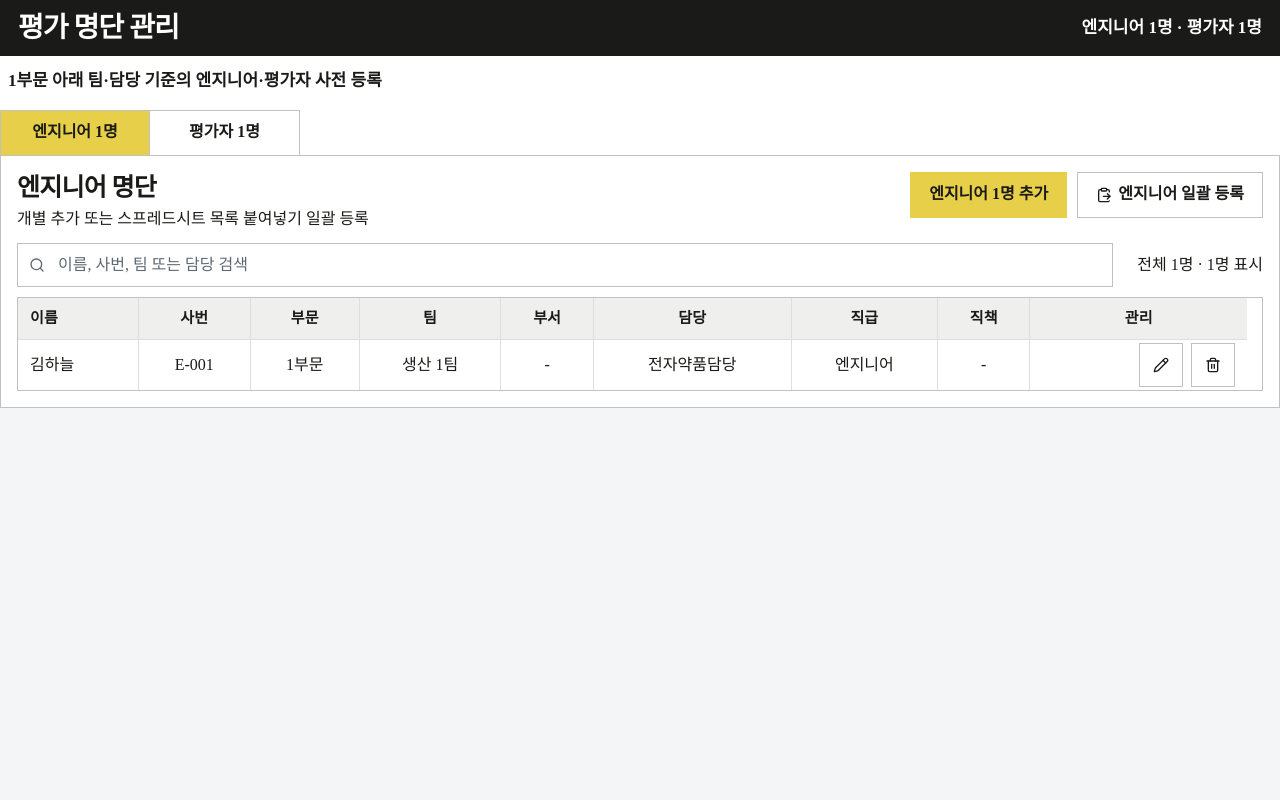
Test: RosterManagementPanel › keeps the dialog open and explains a repository registration failure
Click the button "엔지니어 1명 추가" at (989, 195), box [910,172,1067,218]
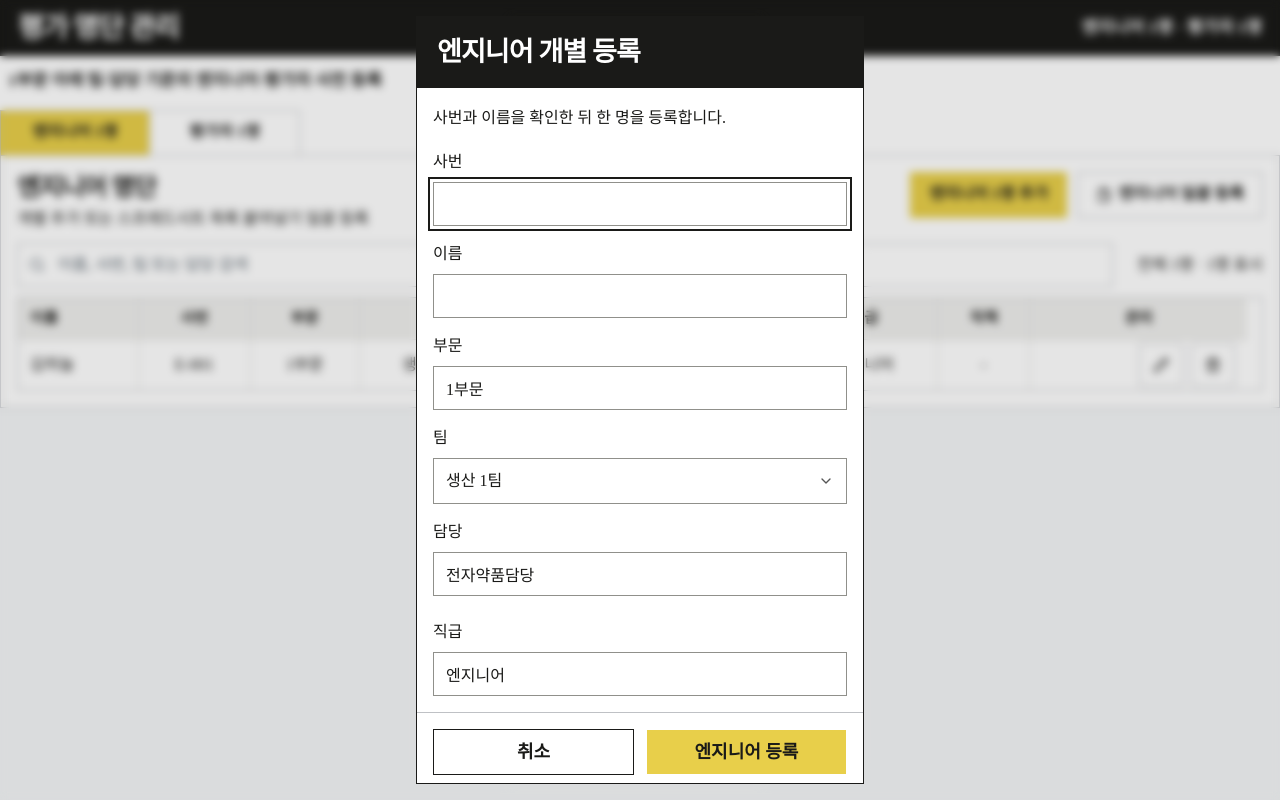
Type "E-009" into the field labelled "사번" at (640, 204), box [433,182,847,226]
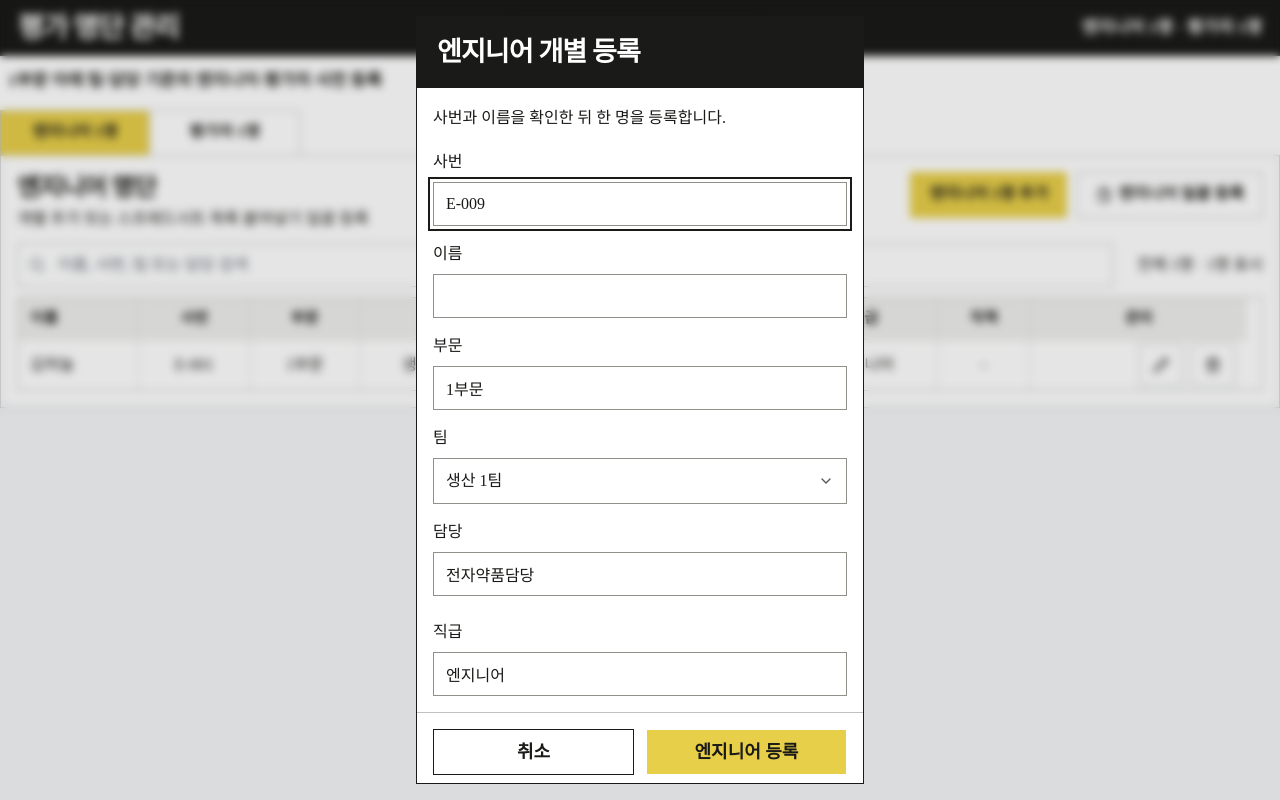
Type "등록실패" into the field labelled "이름" at (640, 296), box [433,274,847,318]
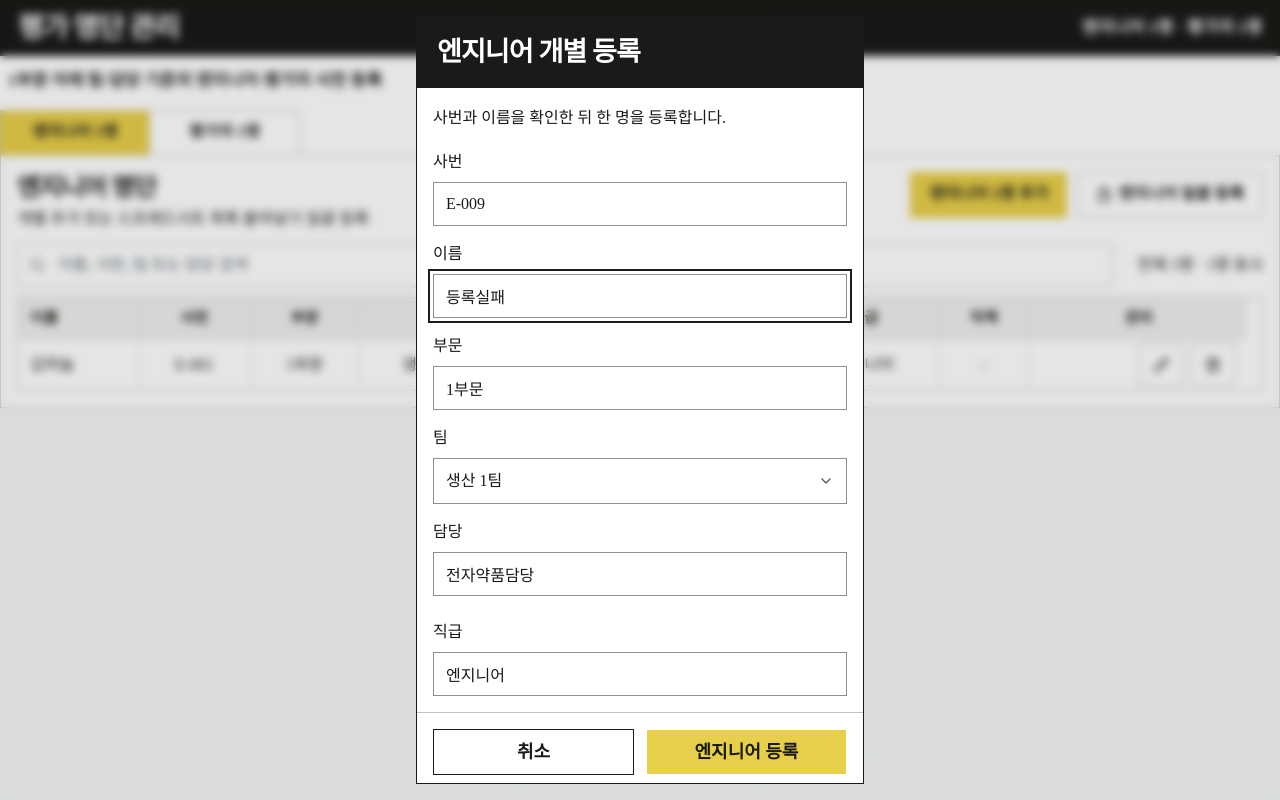
Click the button "엔지니어 등록" at (746, 752), box [646,729,847,775]
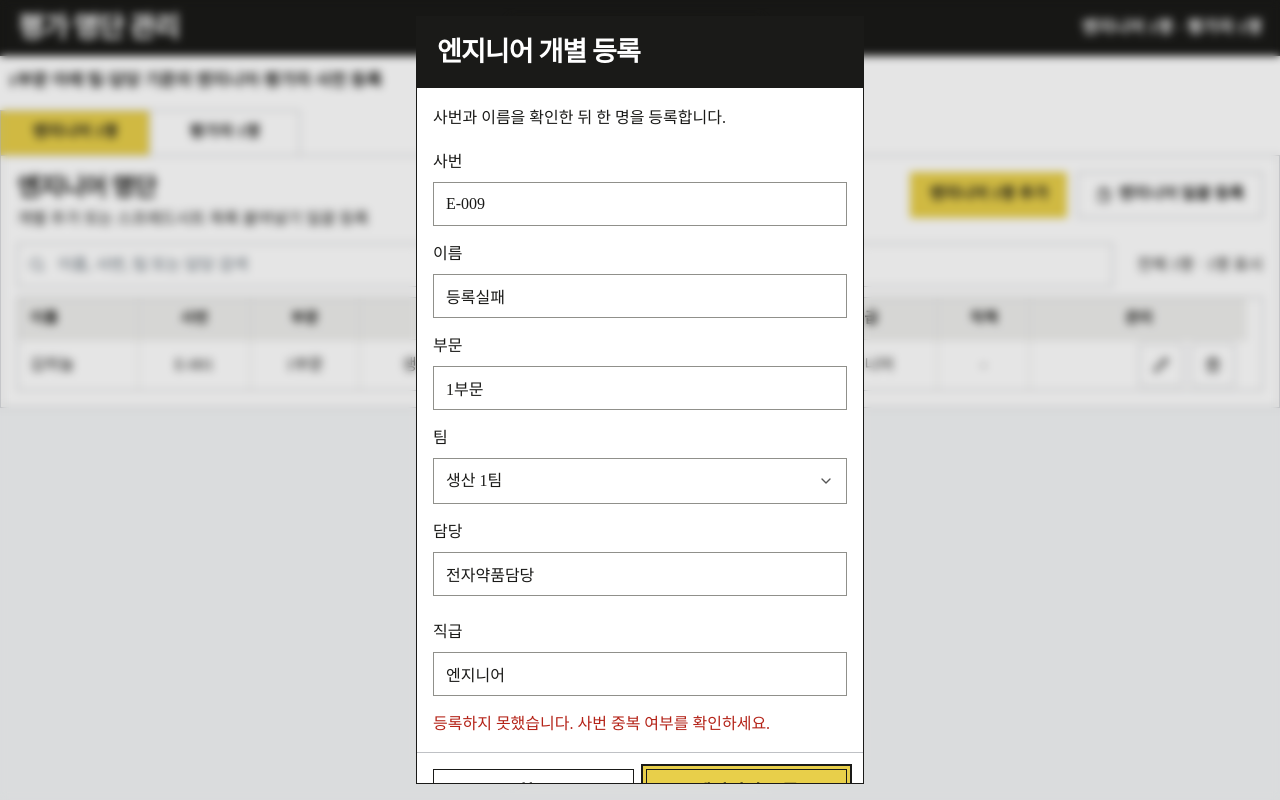
Check: the dialog "엔지니어 개별 등록" is shown, box [416,16,864,784]
Check: the message shows "등록하지 못했습니다", box [433,715,770,732]
